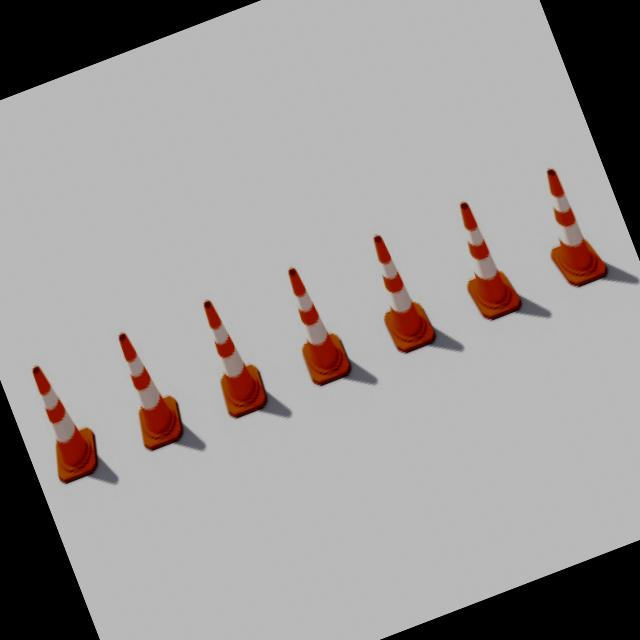cone: (90, 286, 211, 476), (6, 328, 136, 504), (342, 206, 455, 367), (511, 142, 616, 302), (178, 274, 284, 431), (428, 177, 531, 328), (263, 258, 371, 402)
